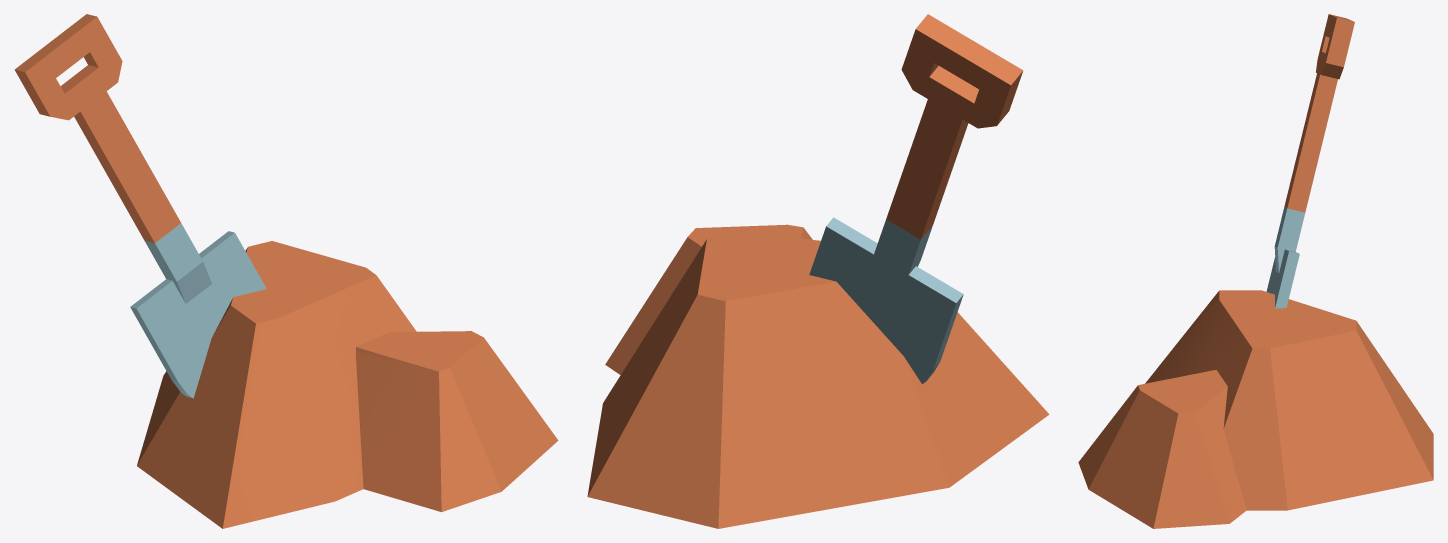
File: shovelDirt.fbx
The picture shows the model from 3 angles, left to right: view 1: azimuth 30°, elevation 25°; view 2: azimuth 150°, elevation 25°; view 3: azimuth 270°, elevation 25°; orthographic projection. The views are drawn at different scales.
Visible parts, largest first — view 1: shovelDirt; view 2: shovelDirt; view 3: shovelDirt.
Part boxes in pixels (x1,y1,x2,y2): shovelDirt: [14, 14, 558, 528]; shovelDirt: [587, 14, 1049, 528]; shovelDirt: [1078, 14, 1433, 528].
Bounding box in the file's own units: 5.99 × 5.74 × 5.06.
